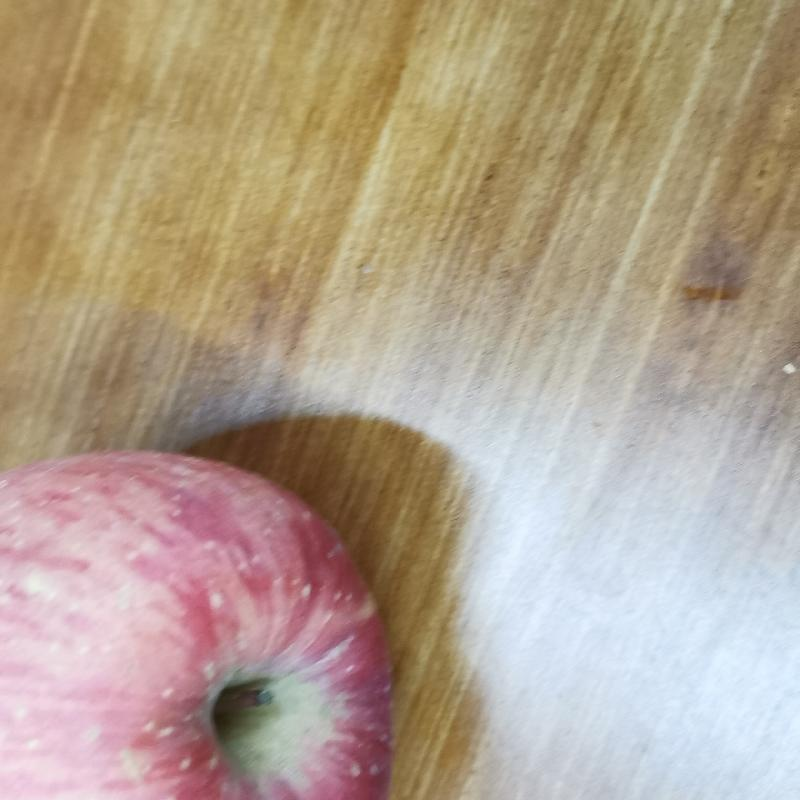apples: (8, 445, 398, 800)
